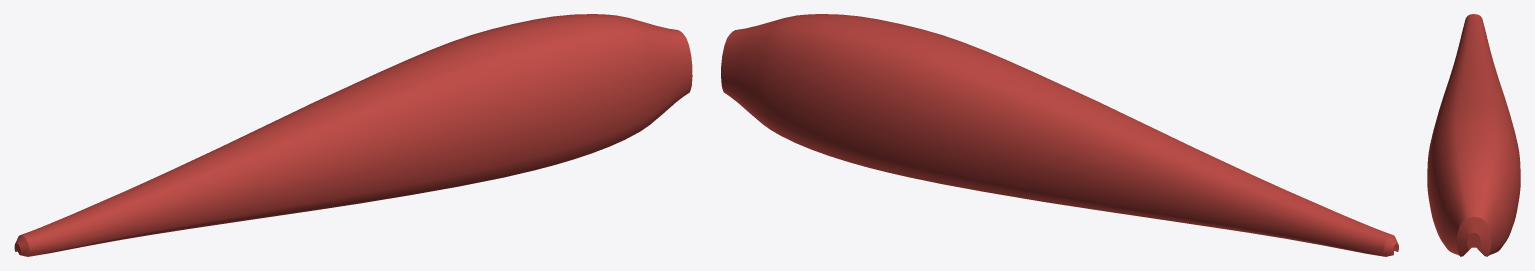
The model's file is chopper_5_lod2.glb.
3 renders of one model, left to right at view 1: azimuth 30°, elevation 25°; view 2: azimuth 150°, elevation 25°; view 3: azimuth 270°, elevation 25°, orthographic. The views are drawn at different scales.
Parts seen in each view (by area): view 1: chopper_5_lod2; view 2: chopper_5_lod2; view 3: chopper_5_lod2.
Boxes of the visible parts, box(x1,y1,x2,y2) form: chopper_5_lod2: box(14, 14, 692, 256); chopper_5_lod2: box(721, 14, 1398, 256); chopper_5_lod2: box(1427, 14, 1520, 256).
Size of the model in its own units: 1.06 by 0.1797 by 0.1752.
